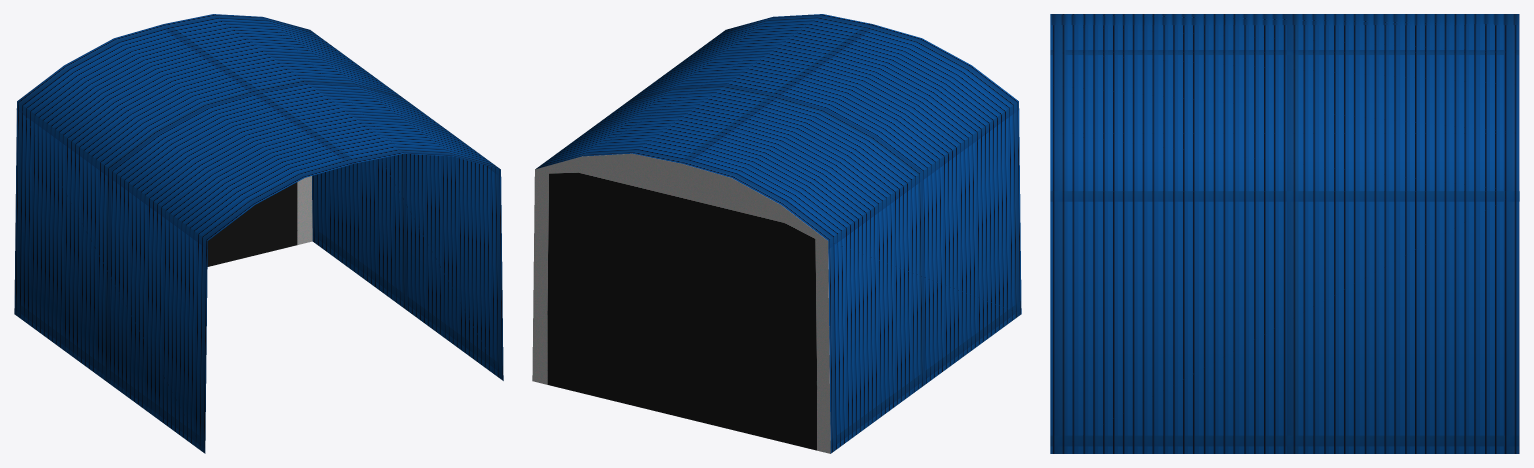
The model's file is Exit_1_Ufa.FBX.
The picture shows the model from 3 angles, left to right: view 1: azimuth 30°, elevation 25°; view 2: azimuth 150°, elevation 25°; view 3: azimuth 270°, elevation 25°; orthographic projection. The views are drawn at different scales.
Visible parts, largest first — view 1: Exit_1_Ufa; view 2: Exit_1_Ufa; view 3: Exit_1_Ufa.
Boxes of the visible parts, left/top/right/bottom form: Exit_1_Ufa: left=14, top=14, right=503, bottom=453; Exit_1_Ufa: left=532, top=14, right=1021, bottom=453; Exit_1_Ufa: left=1050, top=14, right=1519, bottom=453.
Size of the model in its own units: 3.23 by 2.63 by 3.58.
